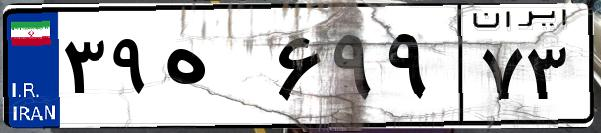3: (57, 26, 110, 100), (525, 38, 570, 115)
6: (270, 28, 330, 110)
7: (475, 38, 525, 113)
9: (385, 28, 445, 110), (330, 28, 385, 110), (110, 28, 158, 98)
ه: (158, 20, 270, 120)
